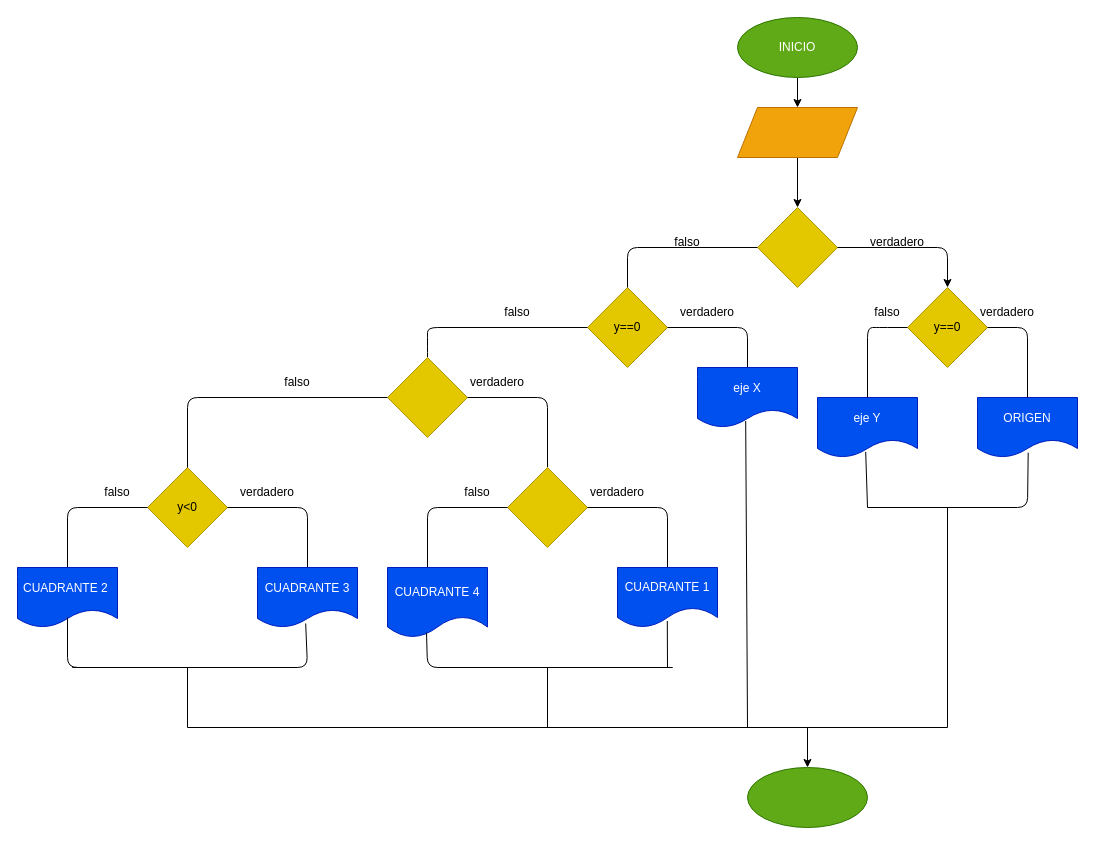
This 1095x845 diagram has some shape labels left out. Here are the shapes that lost their labels. From the top down, the centre of each, then its label:
At [797,132]: "x,y".
At [797,247]: "x==0".
At [427,397]: "X>0".
At [547,507]: "y>0".
At [807,797]: "FIN".
